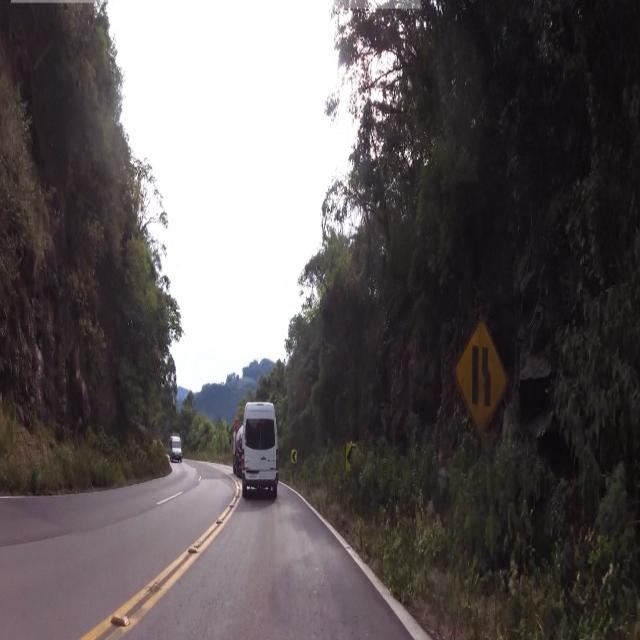A-21c: (458, 323, 507, 438)
